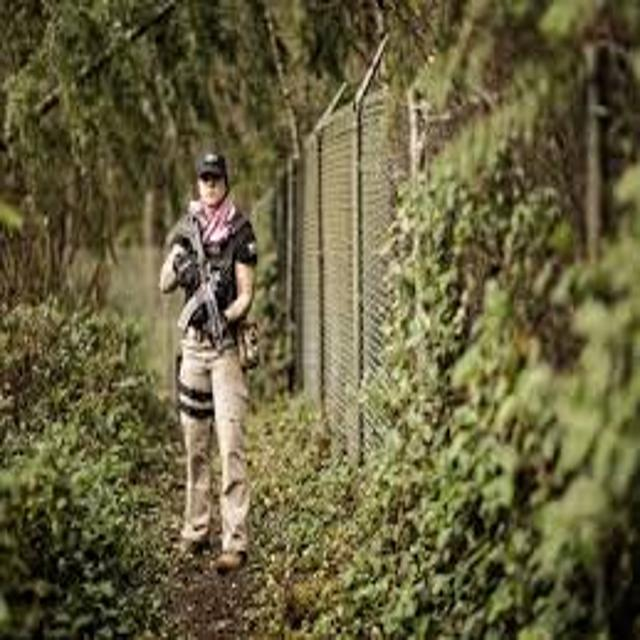gun: (153, 194, 240, 368)
poacher: (105, 132, 321, 591)
